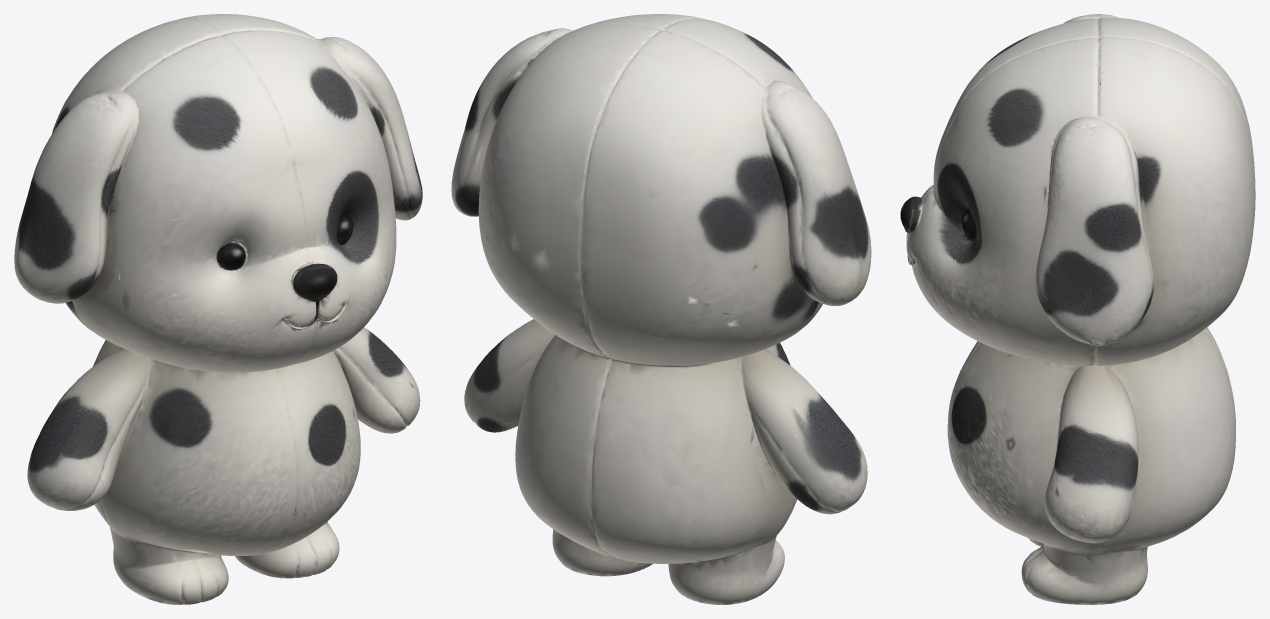
The model's file is pet-dog.glb.
3 views of the same model, side by side, from view 1: azimuth 30°, elevation 25°; view 2: azimuth 150°, elevation 25°; view 3: azimuth 270°, elevation 25° (orthographic). The views are drawn at different scales.
Visible parts, largest first — view 1: node_0; view 2: node_0; view 3: node_0.
Part boxes in pixels (x1,y1,x2,y2): node_0: [14, 14, 422, 604]; node_0: [451, 14, 871, 604]; node_0: [900, 14, 1255, 604].
Size of the model in its own units: 0.8676 by 1.12 by 0.6891.
Materials: 1 (1 with a texture image).
